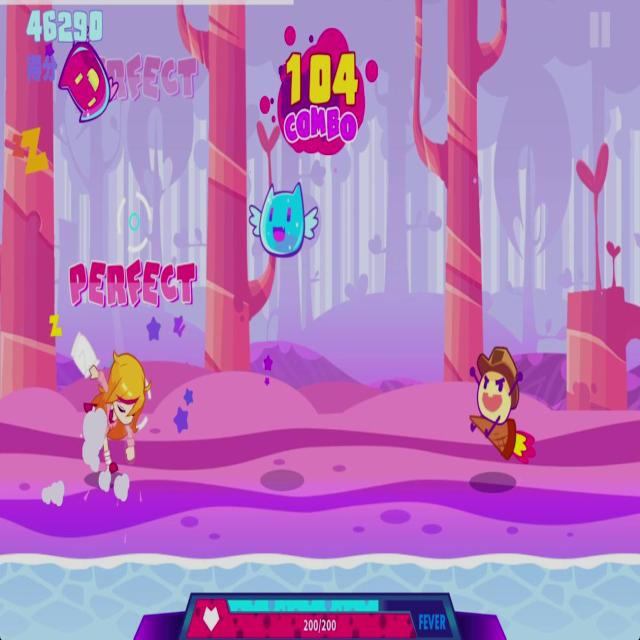mao: (247, 175, 321, 262), (59, 26, 119, 128)
qiu: (467, 338, 537, 472)
